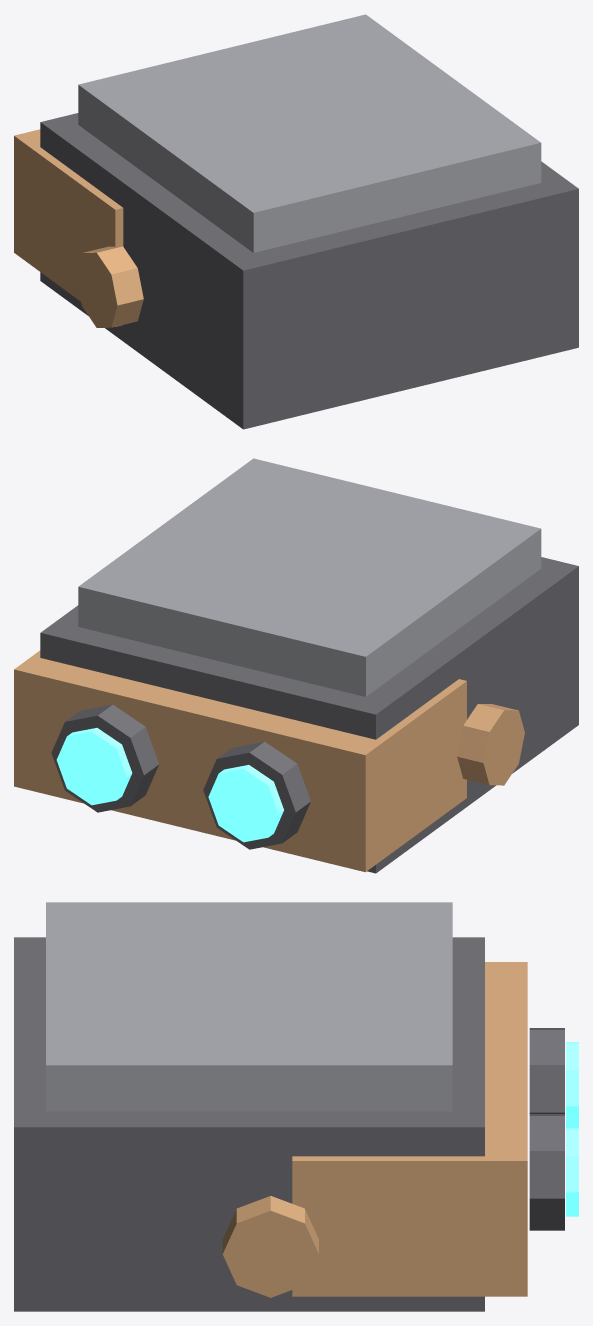
The model's file is dwarf_hat_welder.glb.
3 renders of one model, top to bottom at view 1: azimuth 30°, elevation 25°; view 2: azimuth 150°, elevation 25°; view 3: azimuth 270°, elevation 25°, orthographic. The views are drawn at different scales.
Parts seen in each view (by area): view 1: DwarfHatWelder; view 2: DwarfHatWelder; view 3: DwarfHatWelder.
Part boxes in pixels (box(x1,y1,x2,y2)): DwarfHatWelder: box(14, 14, 578, 429); DwarfHatWelder: box(14, 458, 578, 873); DwarfHatWelder: box(14, 902, 578, 1311).
Bounding box in the file's own units: 0.51 × 0.24 × 0.528.
